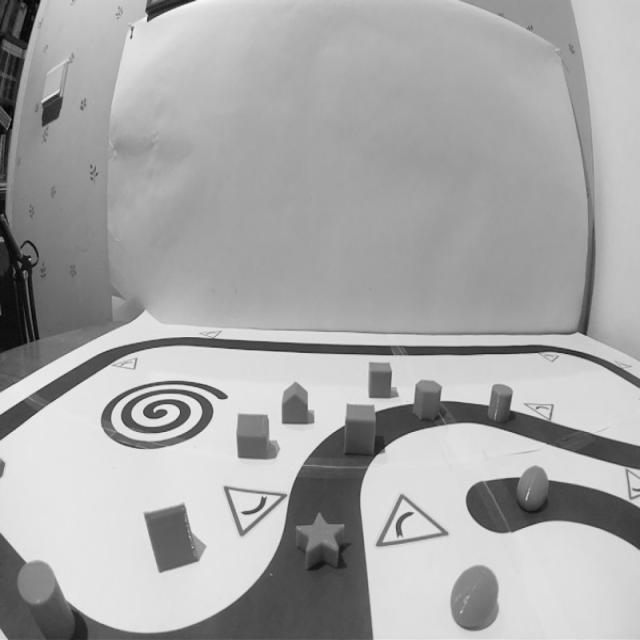ball: (514, 461, 552, 515)
cube: (446, 560, 502, 634), (341, 399, 380, 460), (366, 356, 395, 404)
cylinder: (15, 558, 81, 640), (488, 378, 515, 428)
hexagon: (411, 374, 444, 424)
home: (234, 408, 274, 466), (278, 379, 313, 430)
nest: (96, 374, 232, 456)
rightTurn: (356, 479, 454, 559)
star: (289, 510, 350, 575)
triangle: (138, 495, 202, 576)
